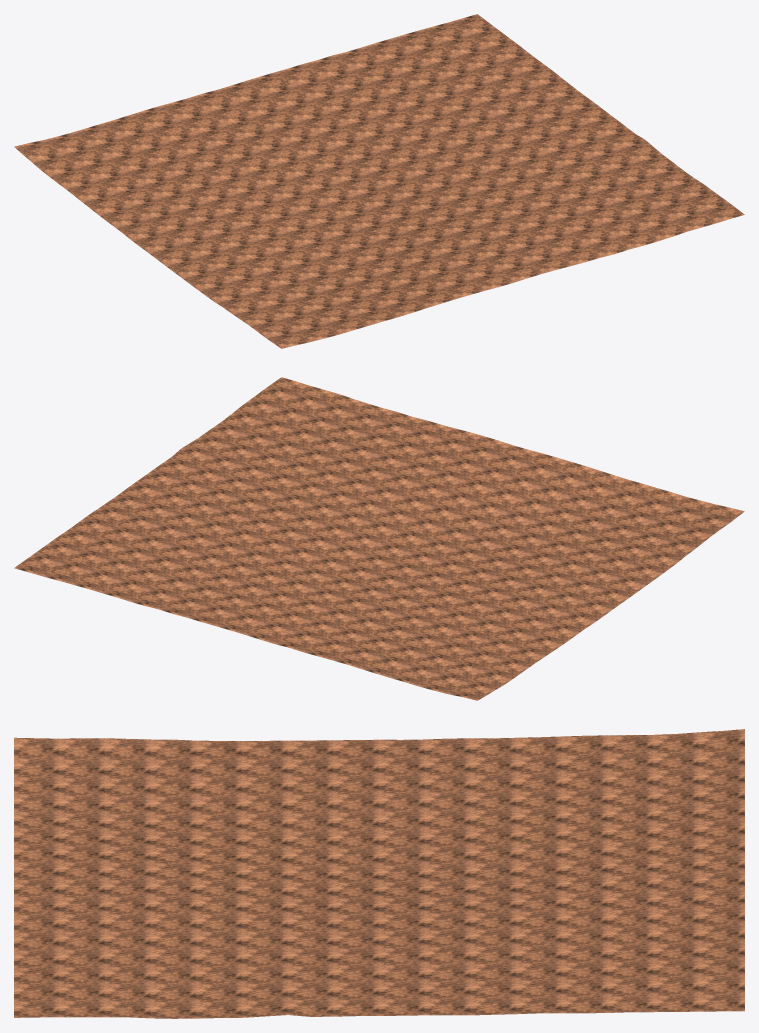
Rendered from terrain_09_20.dae.
3 views of the same model, one above another, from view 1: azimuth 30°, elevation 25°; view 2: azimuth 150°, elevation 25°; view 3: azimuth 270°, elevation 25° (orthographic). The views are drawn at different scales.
Visible parts, largest first — view 1: terrain_09_20-node; view 2: terrain_09_20-node; view 3: terrain_09_20-node.
Boxes of the visible parts, box(x1,y1,x2,y2) form: terrain_09_20-node: box(14, 14, 744, 348); terrain_09_20-node: box(14, 377, 744, 700); terrain_09_20-node: box(14, 729, 744, 1018).
Bounding box in the file's own units: 128 × 128 × 7.45.
1 material, 1 textured.
